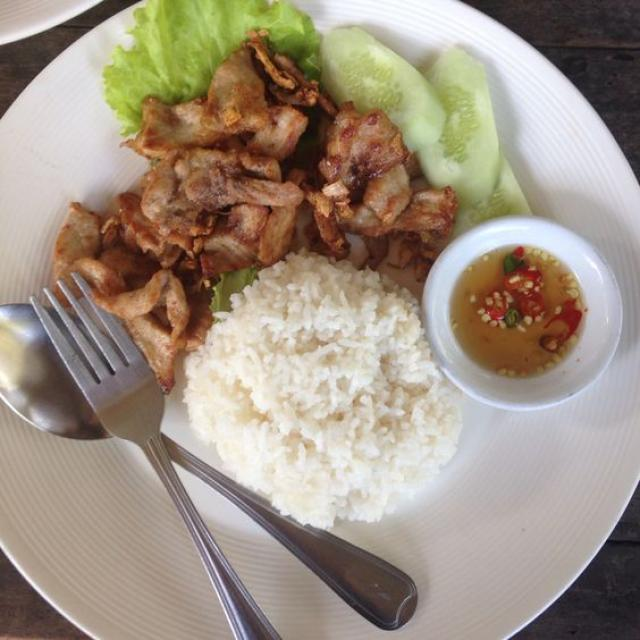Carbohydrate: (188, 259, 464, 545)
Kaow-Friedpork: (0, 0, 640, 640)
Protein: (36, 47, 454, 380)
Vegetable: (328, 17, 539, 224)
